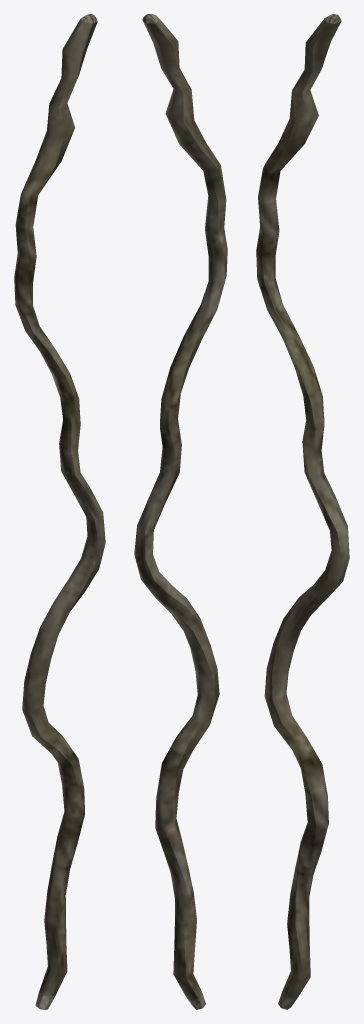
File: vines.fbx
3 renders of one model, left to right at view 1: azimuth 30°, elevation 25°; view 2: azimuth 210°, elevation 25°; view 3: azimuth 330°, elevation 25°, orthographic. The views are drawn at different scales.
Visible parts, largest first — view 1: vines; view 2: vines; view 3: vines.
Boxes of the visible parts, bbox=[...] form: vines: bbox=[14, 14, 105, 1009]; vines: bbox=[134, 14, 227, 1009]; vines: bbox=[256, 14, 349, 1009].
Size of the model in its own units: 0.2891 by 3.07 by 0.0747.
Materials: 1 (1 with a texture image).
